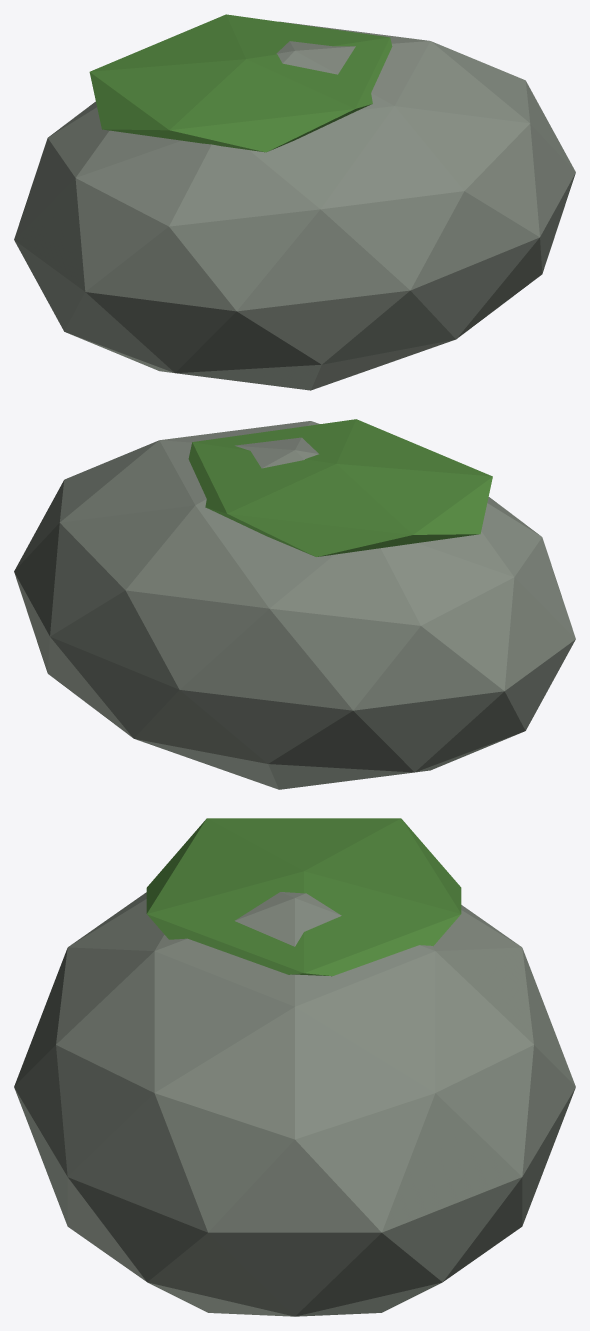
File: SM_MistForestMossBoulder_A.glb
3 renders of one model, top to bottom at view 1: azimuth 30°, elevation 25°; view 2: azimuth 150°, elevation 25°; view 3: azimuth 270°, elevation 25°, orthographic. The views are drawn at different scales.
Parts seen in each view (by area): view 1: SM_MistForestMossBoulder_A; view 2: SM_MistForestMossBoulder_A; view 3: SM_MistForestMossBoulder_A.
Boxes of the visible parts, x1=… form: SM_MistForestMossBoulder_A: x1=14, y1=14, x2=575, y2=390; SM_MistForestMossBoulder_A: x1=14, y1=419, x2=575, y2=789; SM_MistForestMossBoulder_A: x1=14, y1=818, x2=575, y2=1316.
Bounding box in the file's own units: 3.8 × 2.3 × 3.1.
